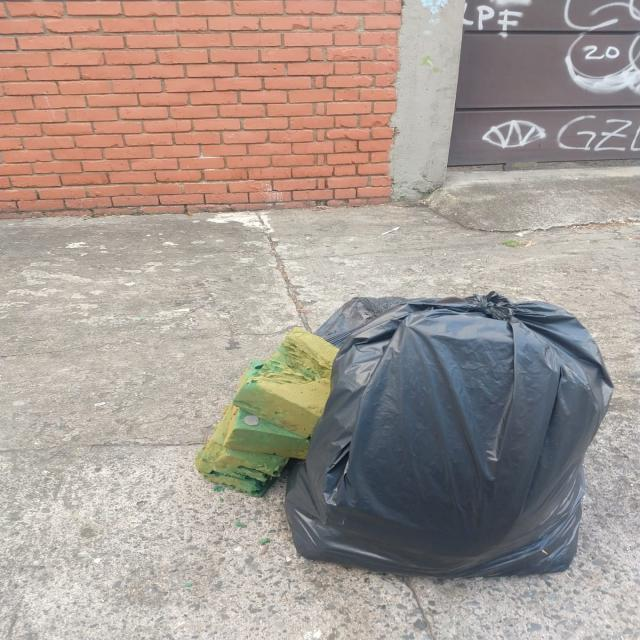Trashbag: (284, 285, 622, 591)
